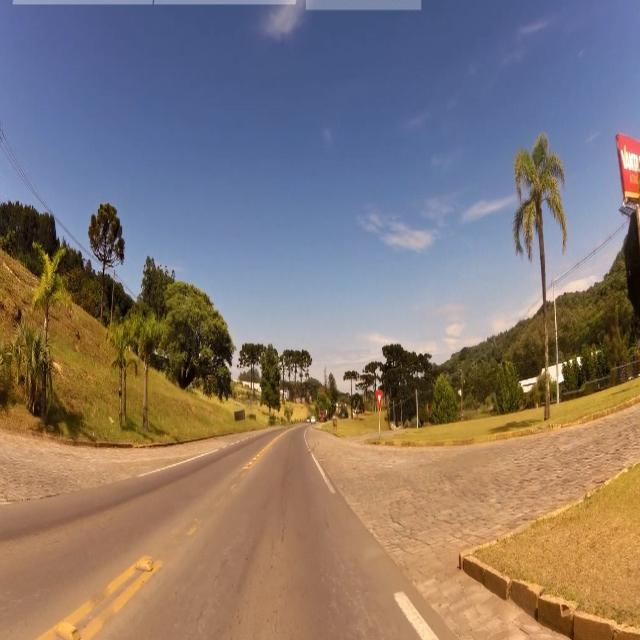R-1: (375, 388, 385, 412)
